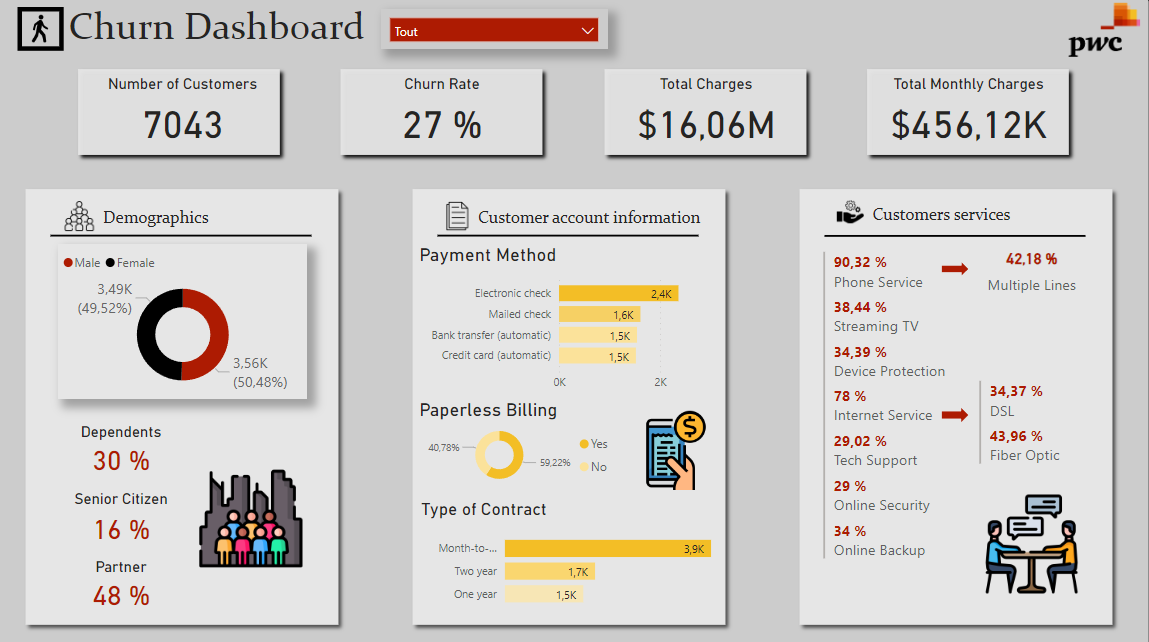

Layout of this report page (visuals, bound fields, positions):
{"tool":"powerbi","page":{"name":"Churn Analysis","canvas":[1280,720],"ordinal":3},"visuals":[{"type":"textbox","box":[73.3,0,363.3,70],"z":0},{"type":"shape","box":[21.9,10.6,51.2,48.8],"z":0,"group":"g1"},{"type":"image","box":[1178.3,0,101.7,70],"z":1000},{"type":"image","box":[32.5,14.4,29.4,41.2],"z":1000,"group":"g1"},{"type":"group","id":"g1","title":"Groupe 1","box":[21.9,10.6,51.2,48.8],"z":2000},{"type":"shape","box":[21.7,203.3,365,501.7],"z":3000},{"type":"shape","box":[451.7,203.3,365,501.7],"z":4000},{"type":"shape","box":[881.7,203.3,365,501.7],"z":5000},{"type":"donutChart","title":"Customer Gender","fields":{"Category":["01 Churn-Dataset.gender"],"Y":["CountNonNull(01 Churn-Dataset.customerID)"]},"box":[66.7,273.3,276.7,171.7],"z":6000},{"type":"card","title":"Senior Citizen","fields":{"Values":["01 Churn-Dataset.Senior citizen"]},"box":[71.7,546.7,130,63.3],"z":7000},{"type":"card","title":"Dependents","fields":{"Values":["01 Churn-Dataset.Dependents rate"]},"box":[71.7,471.7,130,60],"z":8000},{"type":"card","title":"Partner","fields":{"Values":["01 Churn-Dataset.Partner rate"]},"box":[83.3,621.7,106.7,60],"z":9000},{"type":"textbox","box":[112.2,226.7,176.7,42.2],"z":10000},{"type":"barChart","title":" Payment Method","fields":{"Category":["01 Churn-Dataset.PaymentMethod"],"Y":["CountNonNull(01 Churn-Dataset.customerID)"]},"box":[463.5,272.9,340.6,171.8],"z":11000},{"type":"donutChart","title":"Paperless Billing","fields":{"Category":["01 Churn-Dataset.PaperlessBilling"],"Y":["CountNonNull(01 Churn-Dataset.customerID)"]},"box":[462.7,444.9,228.1,101.9],"z":12000},{"type":"barChart","title":"Type of Contract","fields":{"Category":["01 Churn-Dataset.Contract"],"Y":["CountNonNull(01 Churn-Dataset.customerID)"]},"box":[464.4,556.6,339.8,131.1],"z":13000},{"type":"textbox","box":[528.3,226.7,276.7,50],"z":14000},{"type":"shape","box":[488.9,255.6,290,17.8],"z":15000},{"type":"shape","box":[58.9,255.6,290,17.8],"z":16000},{"type":"multiRowCard","fields":{"Values":["01 Churn-Dataset.Phone Service","01 Churn-Dataset.Streaming TV","01 Churn-Dataset.Device Protection","01 Churn-Dataset.Internet Service","01 Churn-Dataset.Tech Support","01 Churn-Dataset.Online Security","01 Churn-Dataset.Online Backup"]},"box":[911.7,276.7,176.7,356.7],"z":17000},{"type":"shape","box":[80,70,241.7,113.3],"z":18000,"group":"g2"},{"type":"shape","box":[1048.6,455,30,16.4],"z":18000},{"type":"shape","box":[372.2,70,241.7,113.3],"z":19000,"group":"g3"},{"type":"multiRowCard","fields":{"Values":["01 Churn-Dataset.DSL rate","01 Churn-Dataset.Fiber optic rate"]},"box":[1084.2,420,145,103.3],"z":19000},{"type":"shape","box":[664.4,70,241.7,113.3],"z":20000,"group":"g4"},{"type":"shape","box":[1047.8,293.3,30,15.6],"z":20000},{"type":"shape","box":[956.7,70,241.7,113.3],"z":21000,"group":"g5"},{"type":"card","fields":{"Values":["01 Churn-Dataset.Multiple Lines"]},"box":[1084.4,268.9,126.7,64.4],"z":21000},{"type":"slicer","title":"Churn","fields":{"Values":["01 Churn-Dataset.Churn"]},"box":[425.5,10.9,252.7,44.5],"z":22000},{"type":"card","title":"Number of Customers","fields":{"Values":["01 Churn-Dataset.Number Of Customers"]},"box":[110,85,190,83.3],"z":22000,"group":"g2"},{"type":"card","title":"Churn Rate","fields":{"Values":["01 Churn-Dataset.Churn rate"]},"box":[398.9,85,190,83.3],"z":23000,"group":"g3"},{"type":"textbox","box":[966.7,223.3,180,41.7],"z":23000},{"type":"card","title":"Total Charges","fields":{"Values":["01 Churn-Dataset.Total charges"]},"box":[691.1,85,190,83.3],"z":24000,"group":"g4"},{"type":"shape","box":[918.3,255,290,18.3],"z":24000},{"type":"card","title":"Total Monthly Charges","fields":{"Values":["01 Churn-Dataset.Total Monthly Charges"]},"box":[983.4,85,190,83.3],"z":25000,"group":"g5"},{"type":"image","box":[68.9,215.6,43.3,54.4],"z":25000},{"type":"image","box":[488.8,215,43.8,55],"z":26000},{"type":"image","box":[926.7,215,40,45],"z":27000},{"type":"image","box":[218.3,515,125,126.7],"z":28000},{"type":"image","box":[1088.3,531.7,120,150],"z":29000},{"type":"image","box":[703.3,453.3,100,98.3],"z":30000},{"type":"group","id":"g2","title":"Groupe 2","box":[80,70,241.7,113.3],"z":31000},{"type":"group","id":"g3","title":"Groupe 3","box":[372.2,70,241.7,113.3],"z":32000},{"type":"group","id":"g4","title":"Groupe 4","box":[664.4,70,241.7,113.3],"z":33000},{"type":"group","id":"g5","title":"Groupe 5","box":[956.7,70,241.7,113.3],"z":34000}]}

Visuals, with their boxes in screenshot pixels (x1, y1, x2, y2), scaled from the page's 1280x720 canvas onto the 1149x642 screenshot:
textbox: 66, 0, 392, 62
shape: 20, 9, 66, 53
image: 1058, 0, 1148, 62
image: 29, 13, 56, 50
"Groupe 1" group: 20, 9, 66, 53
shape: 19, 181, 347, 629
shape: 405, 181, 733, 629
shape: 791, 181, 1119, 629
"Customer Gender" donutChart: 60, 244, 308, 397
"Senior Citizen" card: 64, 487, 181, 544
"Dependents" card: 64, 421, 181, 474
"Partner" card: 75, 554, 171, 608
textbox: 101, 202, 259, 240
" Payment Method" barChart: 416, 243, 722, 397
"Paperless Billing" donutChart: 415, 397, 620, 488
"Type of Contract" barChart: 417, 496, 722, 613
textbox: 474, 202, 723, 247
shape: 439, 228, 699, 244
shape: 53, 228, 313, 244
multiRowCard - 01 Churn-Dataset.Phone Service x 01 Churn-Dataset.Streaming TV: 818, 247, 977, 565
shape: 72, 62, 289, 163
shape: 941, 406, 968, 420
shape: 334, 62, 551, 163
multiRowCard - 01 Churn-Dataset.DSL rate x 01 Churn-Dataset.Fiber optic rate: 973, 374, 1103, 467
shape: 596, 62, 813, 163
shape: 941, 262, 967, 275
shape: 859, 62, 1076, 163
card - 01 Churn-Dataset.Multiple Lines: 973, 240, 1087, 297
"Churn" slicer: 382, 10, 609, 49
"Number of Customers" card: 99, 76, 269, 150
"Churn Rate" card: 358, 76, 529, 150
textbox: 868, 199, 1029, 236
"Total Charges" card: 620, 76, 791, 150
shape: 824, 227, 1085, 244
"Total Monthly Charges" card: 883, 76, 1053, 150
image: 62, 192, 101, 241
image: 439, 192, 478, 241
image: 832, 192, 868, 232
image: 196, 459, 308, 572
image: 977, 474, 1085, 608
image: 631, 404, 721, 492
"Groupe 2" group: 72, 62, 289, 163
"Groupe 3" group: 334, 62, 551, 163
"Groupe 4" group: 596, 62, 813, 163
"Groupe 5" group: 859, 62, 1076, 163
